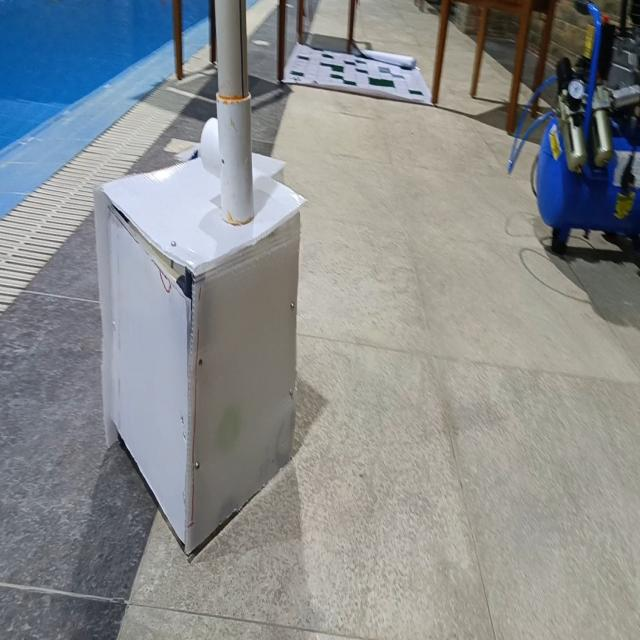Cube: (92, 144, 307, 556)
